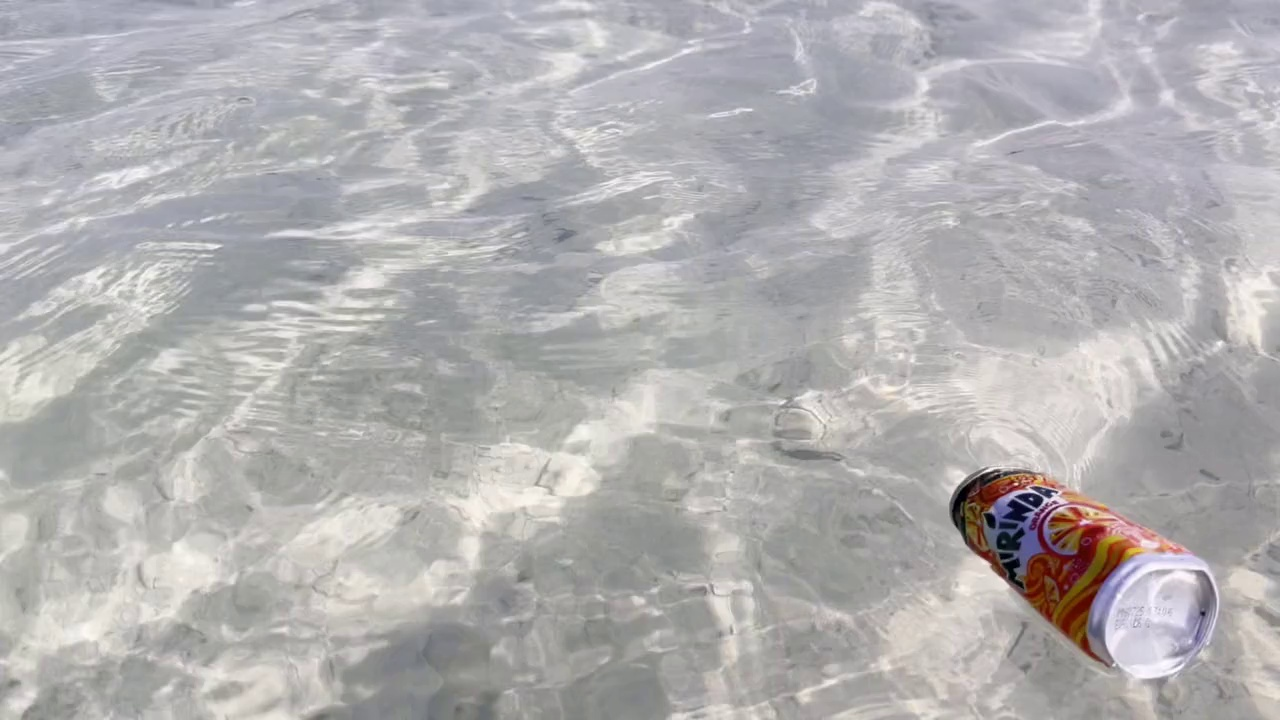debris: (921, 461, 1223, 687)
